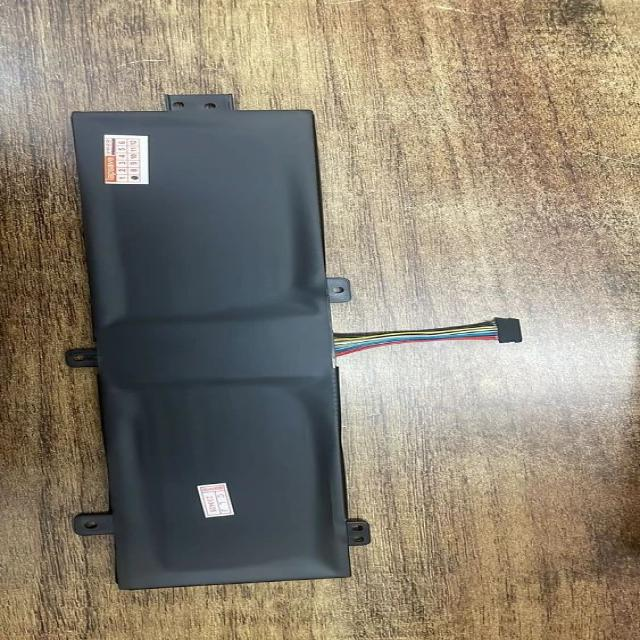electronic: (14, 54, 576, 627)
